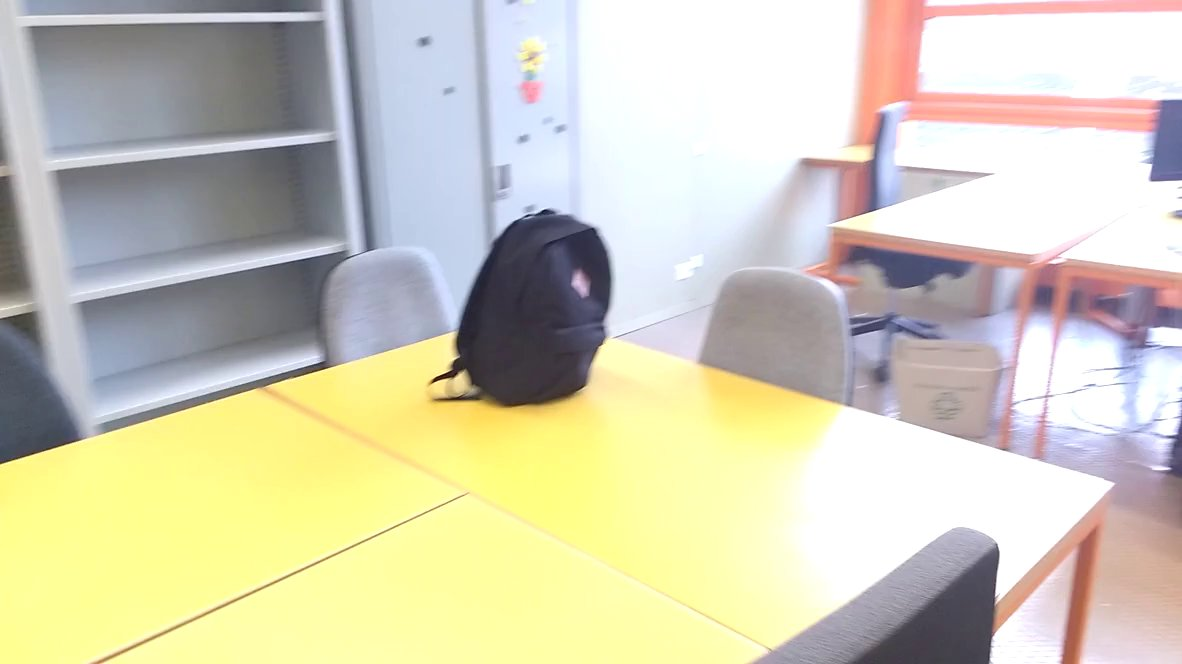bag: (418, 198, 618, 417)
box: (885, 331, 1024, 449)
chair: (837, 88, 984, 394), (692, 257, 876, 445), (297, 223, 480, 393)
